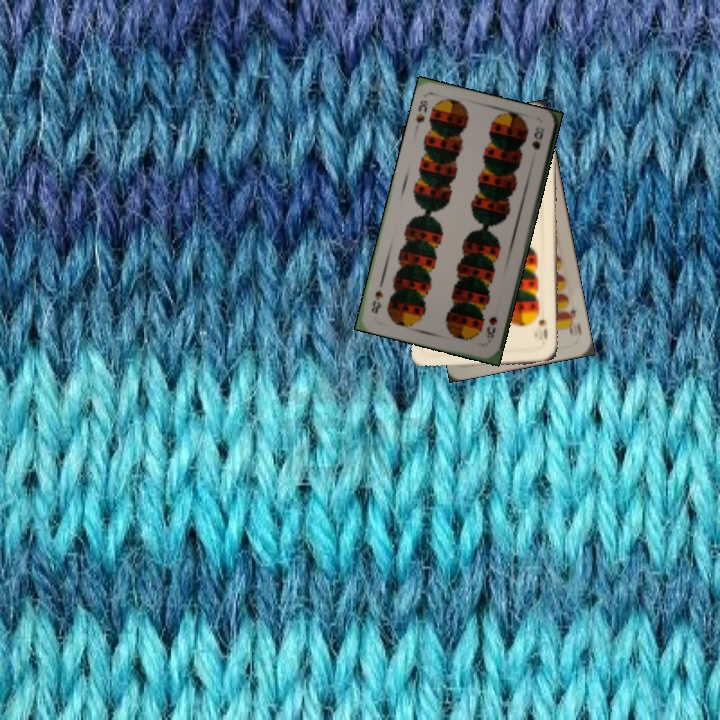E10: (562, 305, 584, 340)
S10: (535, 316, 550, 342)
S8: (481, 312, 500, 345), (412, 96, 430, 126)
